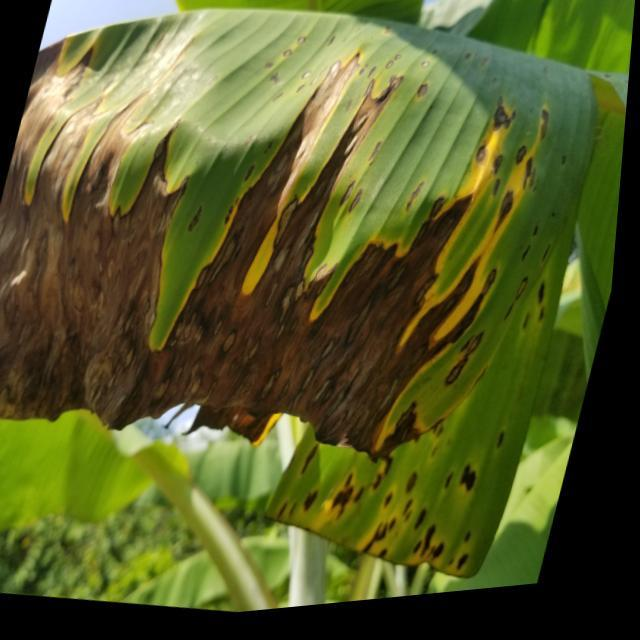Early_rust: (5, 9, 582, 603)
